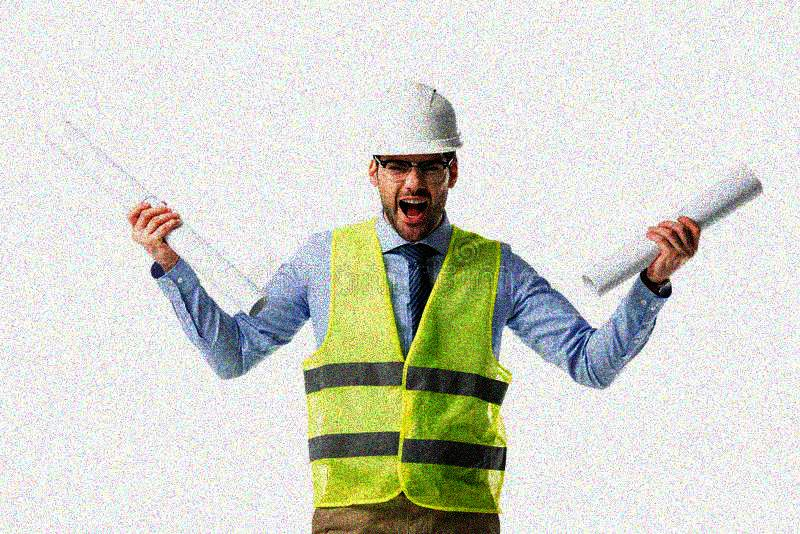helmet: (358, 78, 463, 240)
